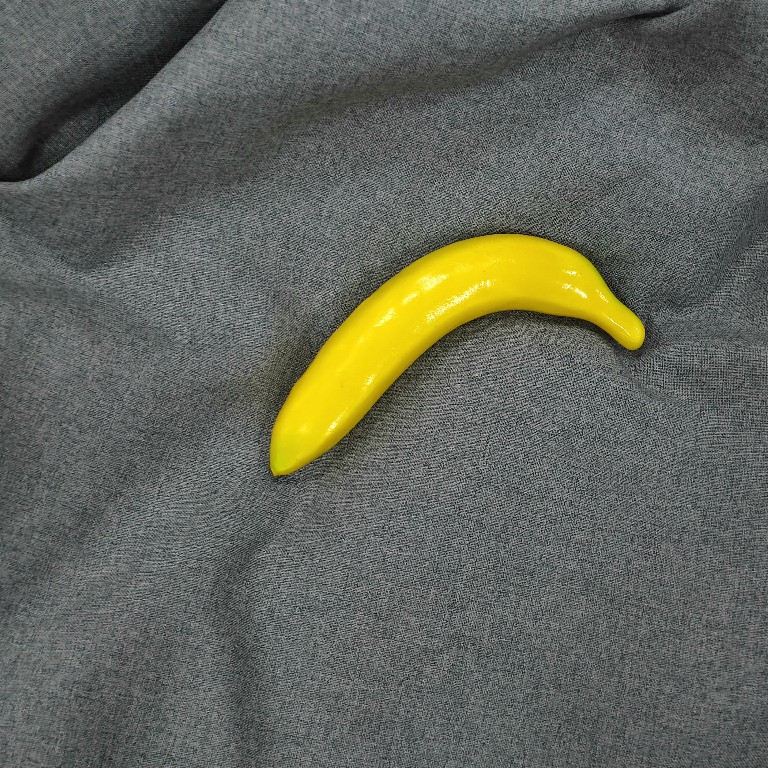fruit_banana: (260, 228, 651, 481)
